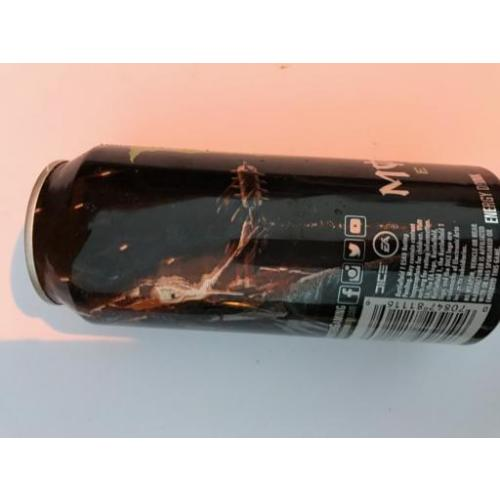metal: (28, 147, 500, 342)
